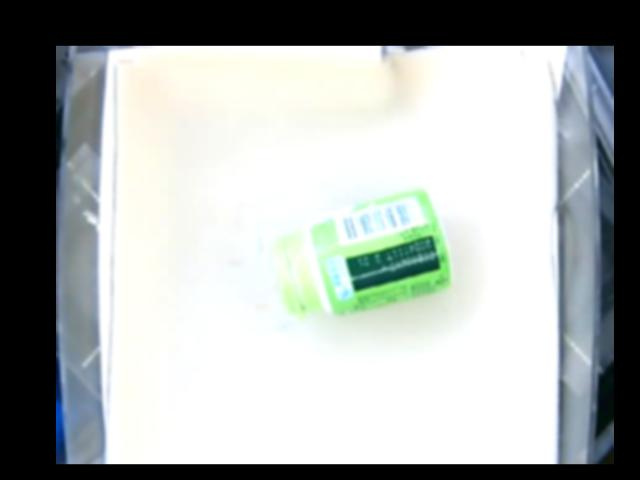Bottle: (274, 186, 455, 318)
